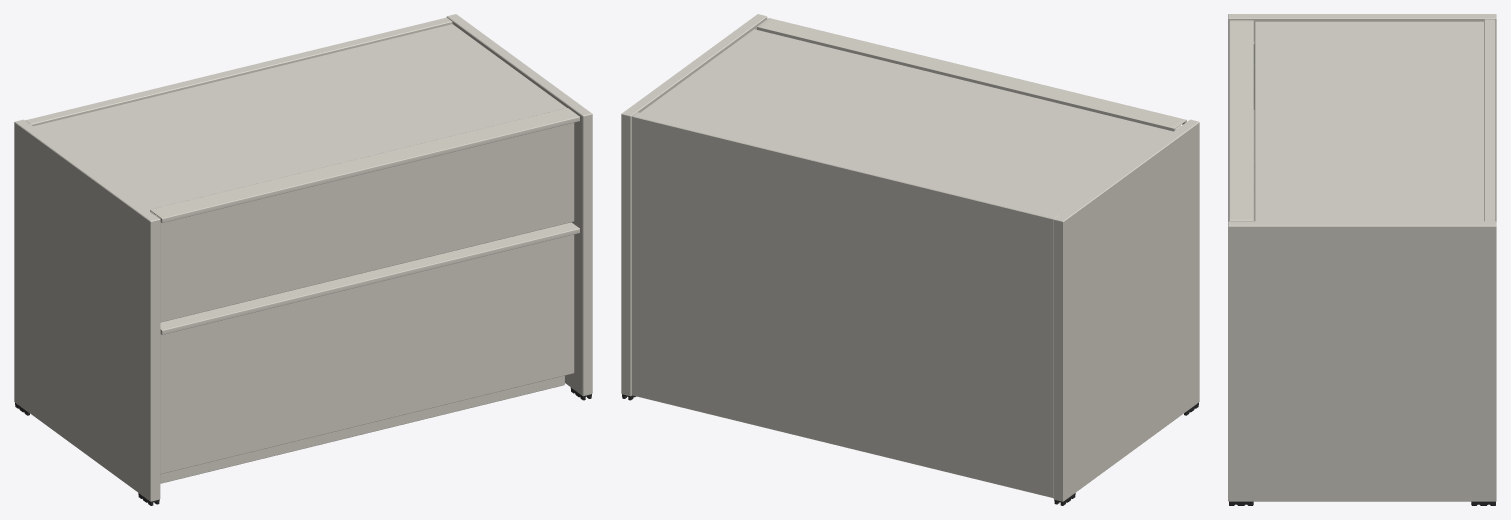
Rendered from ADIB02326.glb.
3 views of the same model, side by side, from view 1: azimuth 30°, elevation 25°; view 2: azimuth 150°, elevation 25°; view 3: azimuth 270°, elevation 25° (orthographic).
Visible parts, largest first — view 1: BP_ADIB02326; view 2: BP_ADIB02326; view 3: BP_ADIB02326.
Part boxes in pixels (bbox=[...]): BP_ADIB02326: bbox=[14, 14, 592, 505]; BP_ADIB02326: bbox=[621, 14, 1199, 505]; BP_ADIB02326: bbox=[1228, 14, 1496, 505].
Size of the model in its own units: 0.795 by 0.49 by 0.425.
Materials: 4 (1 with a texture image).
